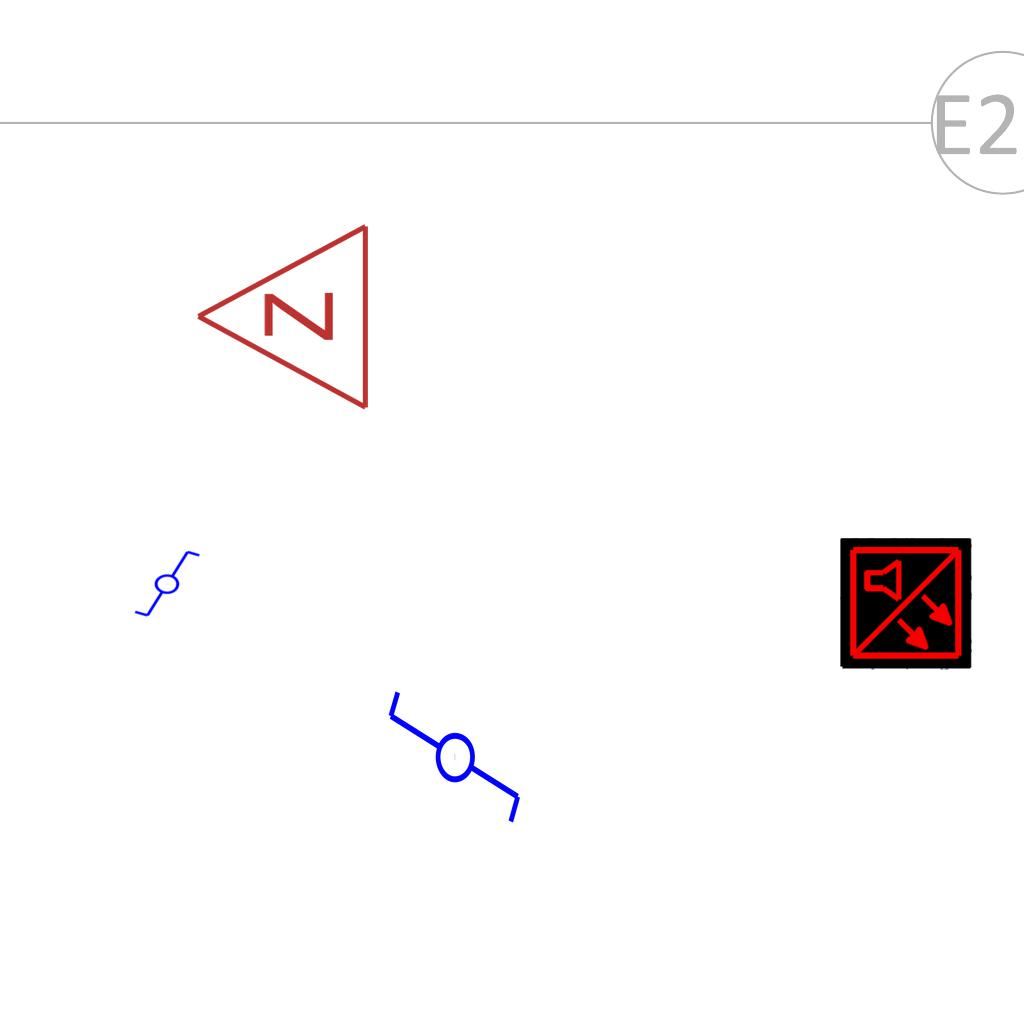OKW_Multisensormelder_(Kombination_optischer_Rauch-Kahlenmonoxid_Waerme-Melder): (840, 538, 972, 670)
Wechselschalter: (381, 687, 525, 844), (124, 547, 202, 619)
Zimmersignalleuchte: (183, 221, 383, 417)
